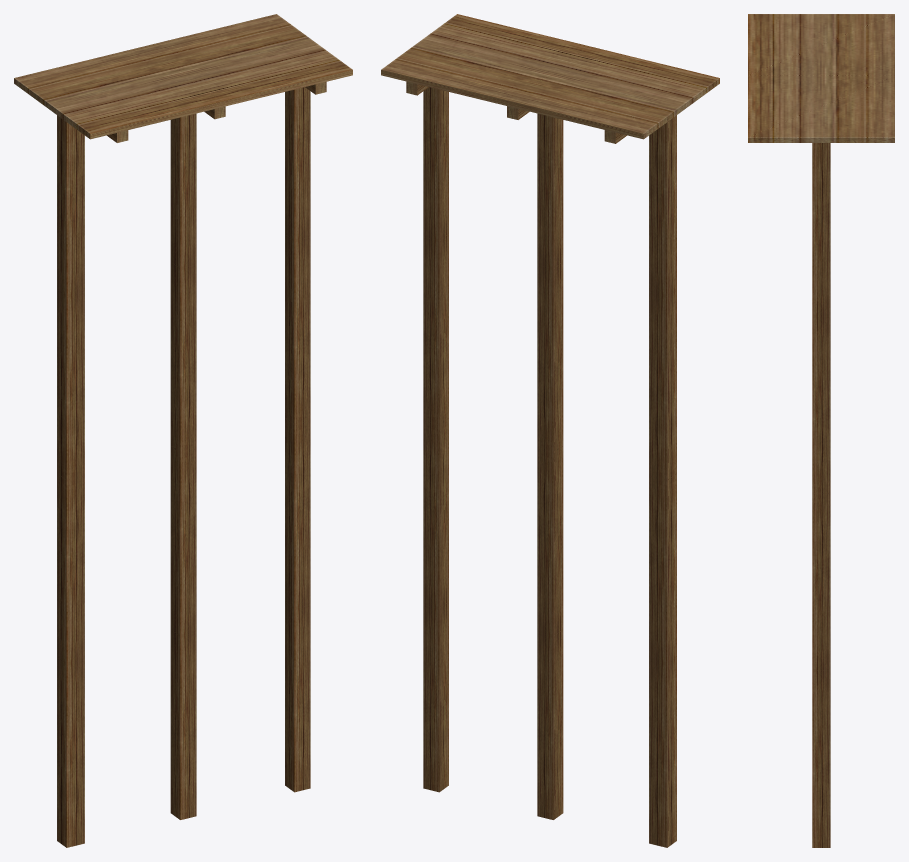
The model's file is Low_BridgeWoodRoad03.FBX.
3 renders of one model, left to right at view 1: azimuth 30°, elevation 25°; view 2: azimuth 150°, elevation 25°; view 3: azimuth 270°, elevation 25°, orthographic. The views are drawn at different scales.
Visible parts, largest first — view 1: poles, Low_BridgeWoodRoad03; view 2: poles, Low_BridgeWoodRoad03; view 3: Low_BridgeWoodRoad03, poles.
Boxes of the visible parts, box(x1,y1,x2,y2) form: poles: box(57, 87, 310, 847); Low_BridgeWoodRoad03: box(14, 14, 352, 142); poles: box(423, 87, 676, 847); Low_BridgeWoodRoad03: box(381, 14, 719, 143); Low_BridgeWoodRoad03: box(748, 14, 894, 142); poles: box(812, 143, 830, 847).
Bounding box in the file's own units: 549 × 1479 × 275.
